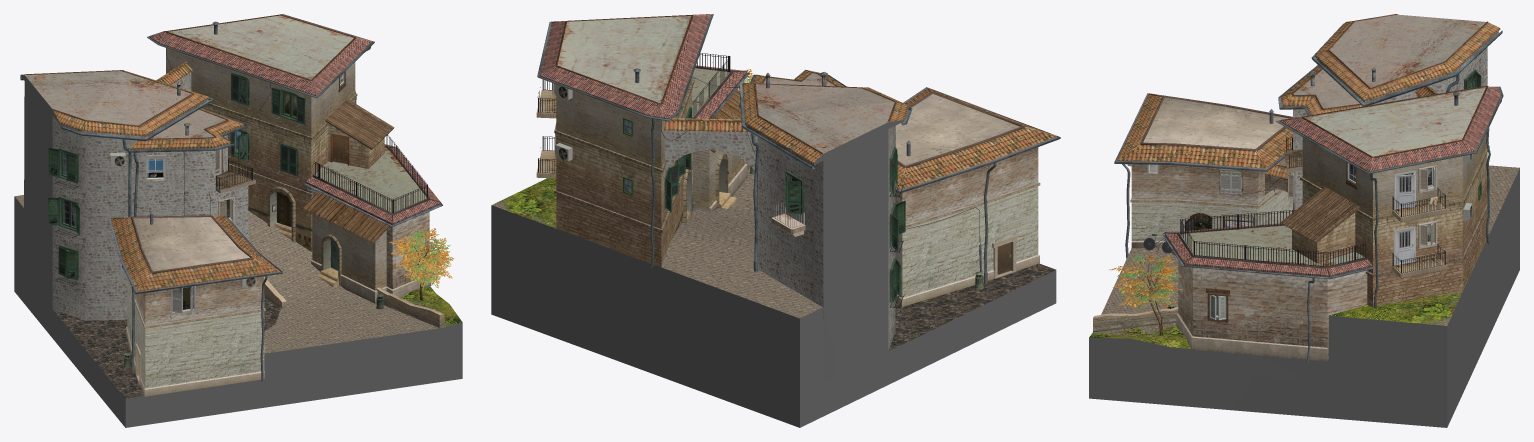
File: city.dae
The picture shows the model from 3 angles, left to right: view 1: azimuth 30°, elevation 25°; view 2: azimuth 150°, elevation 25°; view 3: azimuth 270°, elevation 25°; orthographic projection. The views are drawn at different scales.
Parts seen in each view (by area): view 1: big apt house, box house, SM_Pedestal_Side_0, double house_T_Wall_Flowershop_0, tiny entrance, SM_Pedestal_T_GroundPlane_Pavement_0, double house_T_House_FlowerShop_C_0, double house_Side_0, double house_T_House_FlowerShop_0, double house_T_Roof_A_0, SM_Pedestal_T_GroundPlane_Pavement_B_0, double house_T_House_FlowerShop_B_0 (+2 smaller); view 2: SM_Pedestal_Side_0, big apt house, box house, double house_Side_0, double house_T_Wall_Flowershop_0, double house_T_House_FlowerShop_C_0, SM_Pedestal_T_GroundPlane_Pavement_0, tiny entrance, SM_Pedestal_T_GroundPlane_Pavement_B_0, double house_T_Roof_A_0, double house_T_House_FlowerShop_0, SM_Pedestal_T_GroundPlane_Pavement_D_0; view 3: big apt house, SM_Pedestal_Side_0, tiny entrance, box house, double house_T_House_FlowerShop_C_0, double house_T_Roof_A_0, SM_Pedestal_T_GroundPlane_Pavement_0, SM_Pedestal_T_GroundPlane_Pavement_D_0, double house_T_Wall_Flowershop_0, SM_Pedestal_T_GroundPlane_Pavement_C_0, double house_T_House_FlowerShop_0.
Boxes of the visible parts, x1,y1,x2,y2 form: big apt house: (147,14,394,251); box house: (108,193,282,396); SM_Pedestal_Side_0: (14,196,462,427); double house_T_Wall_Flowershop_0: (52,72,248,320); tiny entrance: (303,135,442,303); SM_Pedestal_T_GroundPlane_Pavement_0: (15,195,438,353); double house_T_House_FlowerShop_C_0: (20,48,270,334); double house_Side_0: (20,74,59,308); double house_T_House_FlowerShop_0: (48,82,255,280); double house_T_Roof_A_0: (23,61,244,149); SM_Pedestal_T_GroundPlane_Pavement_B_0: (53,298,281,398); double house_T_House_FlowerShop_B_0: (54,151,252,286); SM_Pedestal_Side_0: (491,205,1056,427); big apt house: (536,14,713,267); box house: (895,87,1060,306); double house_Side_0: (814,120,903,383); double house_T_Wall_Flowershop_0: (664,126,895,350); double house_T_House_FlowerShop_C_0: (661,69,980,271); SM_Pedestal_T_GroundPlane_Pavement_0: (661,167,822,318); tiny entrance: (692,53,749,211); SM_Pedestal_T_GroundPlane_Pavement_B_0: (823,263,1055,351); double house_T_Roof_A_0: (664,70,909,164); double house_T_House_FlowerShop_0: (766,72,905,302); SM_Pedestal_T_GroundPlane_Pavement_D_0: (492,178,556,228); big apt house: (1276,86,1503,307); SM_Pedestal_Side_0: (1089,168,1519,427); tiny entrance: (1162,210,1374,362); box house: (1114,93,1292,258); double house_T_House_FlowerShop_C_0: (1274,14,1502,194); double house_T_Roof_A_0: (1281,21,1500,114); SM_Pedestal_T_GroundPlane_Pavement_0: (1101,165,1519,314); SM_Pedestal_T_GroundPlane_Pavement_D_0: (1089,292,1462,348); double house_T_Wall_Flowershop_0: (1293,47,1487,211); SM_Pedestal_T_GroundPlane_Pavement_C_0: (1093,307,1178,332); double house_T_House_FlowerShop_0: (1284,67,1481,202).
Size of the model in its own units: 3.04 by 2.95 by 2.02.
34 materials, 33 textured.
